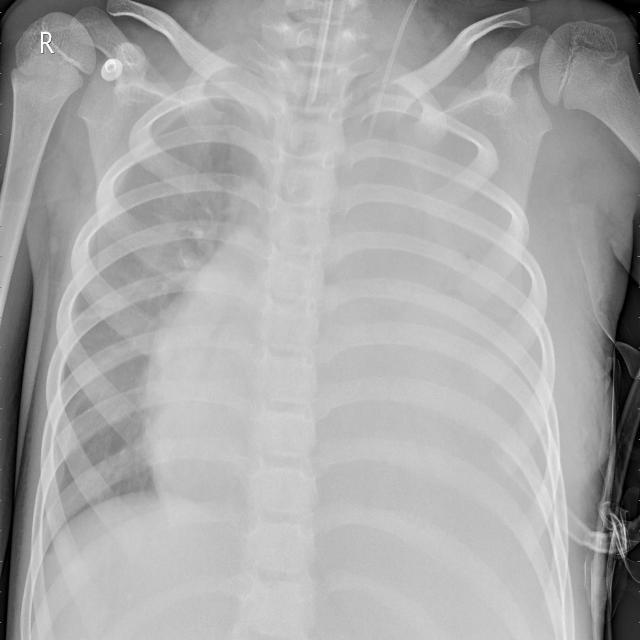high-pneumonia: (374, 100, 566, 475), (65, 83, 258, 453)
